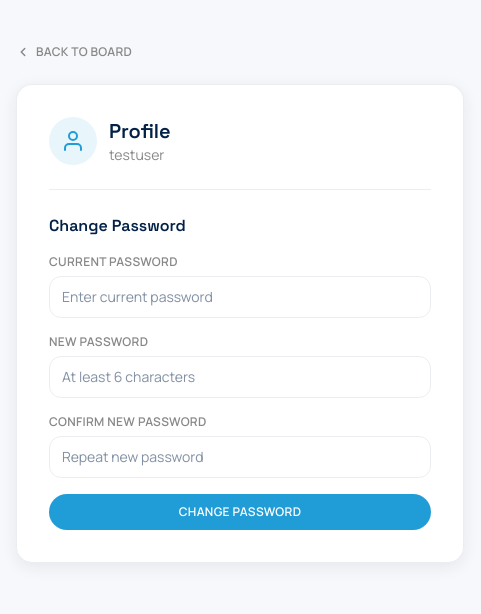
ProfilePage › shows API error when changePassword fails
Type "wrongpass" into the password field with test id "current-password-input" at (240,296), box [49,276,431,318]
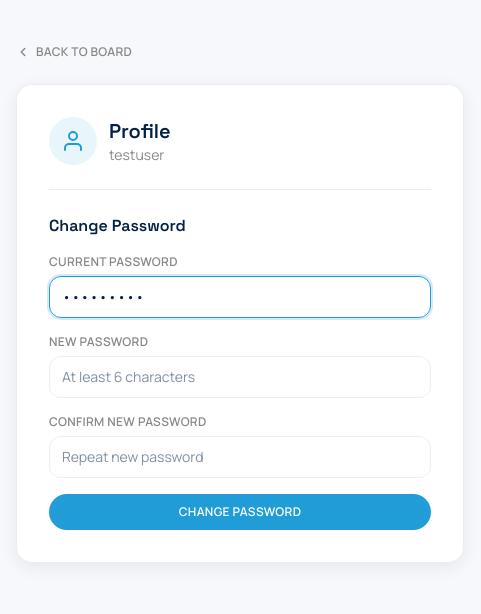
Type "newpass123" into the password field with test id "new-password-input" at (240,376), box [49,356,431,398]
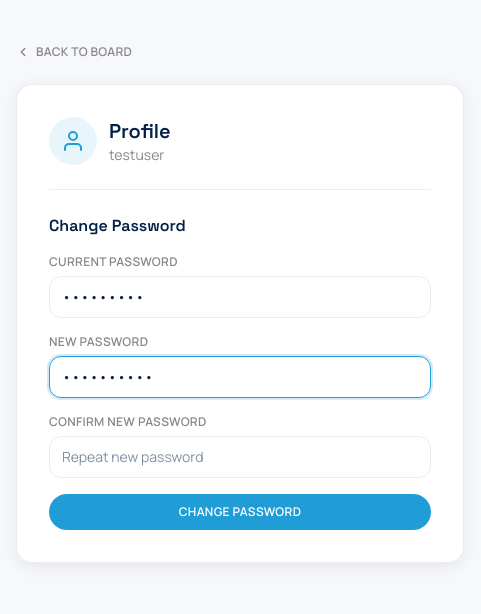
Type "newpass123" into the password field with test id "confirm-password-input" at (240,456), box [49,436,431,478]
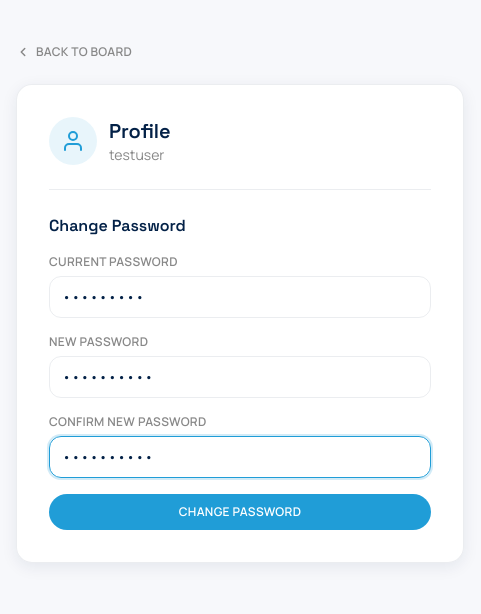
Click the button with test id "change-password-btn" at (240,512), box [49,494,431,530]
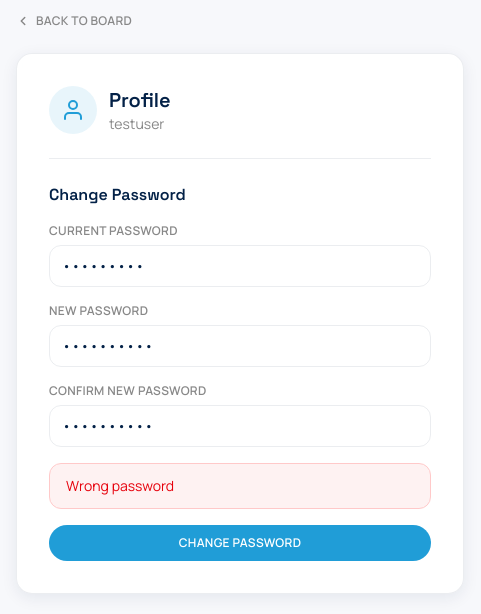
Check: the text with test id "profile-error" reads "Wrong password", box [66,476,174,494]
